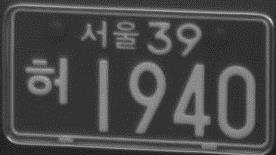0: (215, 64, 257, 142)
1: (94, 56, 113, 133)
3: (146, 18, 173, 56)
4: (172, 62, 212, 139)
9: (126, 58, 169, 136), (176, 22, 204, 57)
서울_O: (80, 20, 142, 52)
허: (23, 55, 69, 105)
